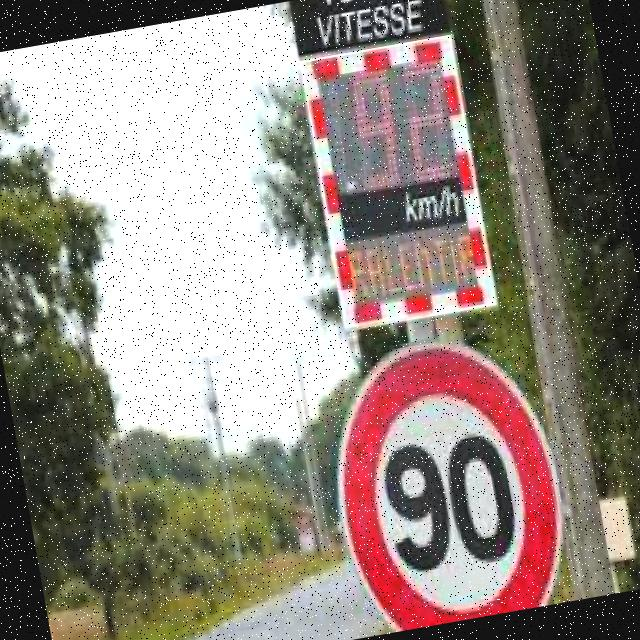Ograniczenie predkosci do 90: (318, 326, 576, 637)
